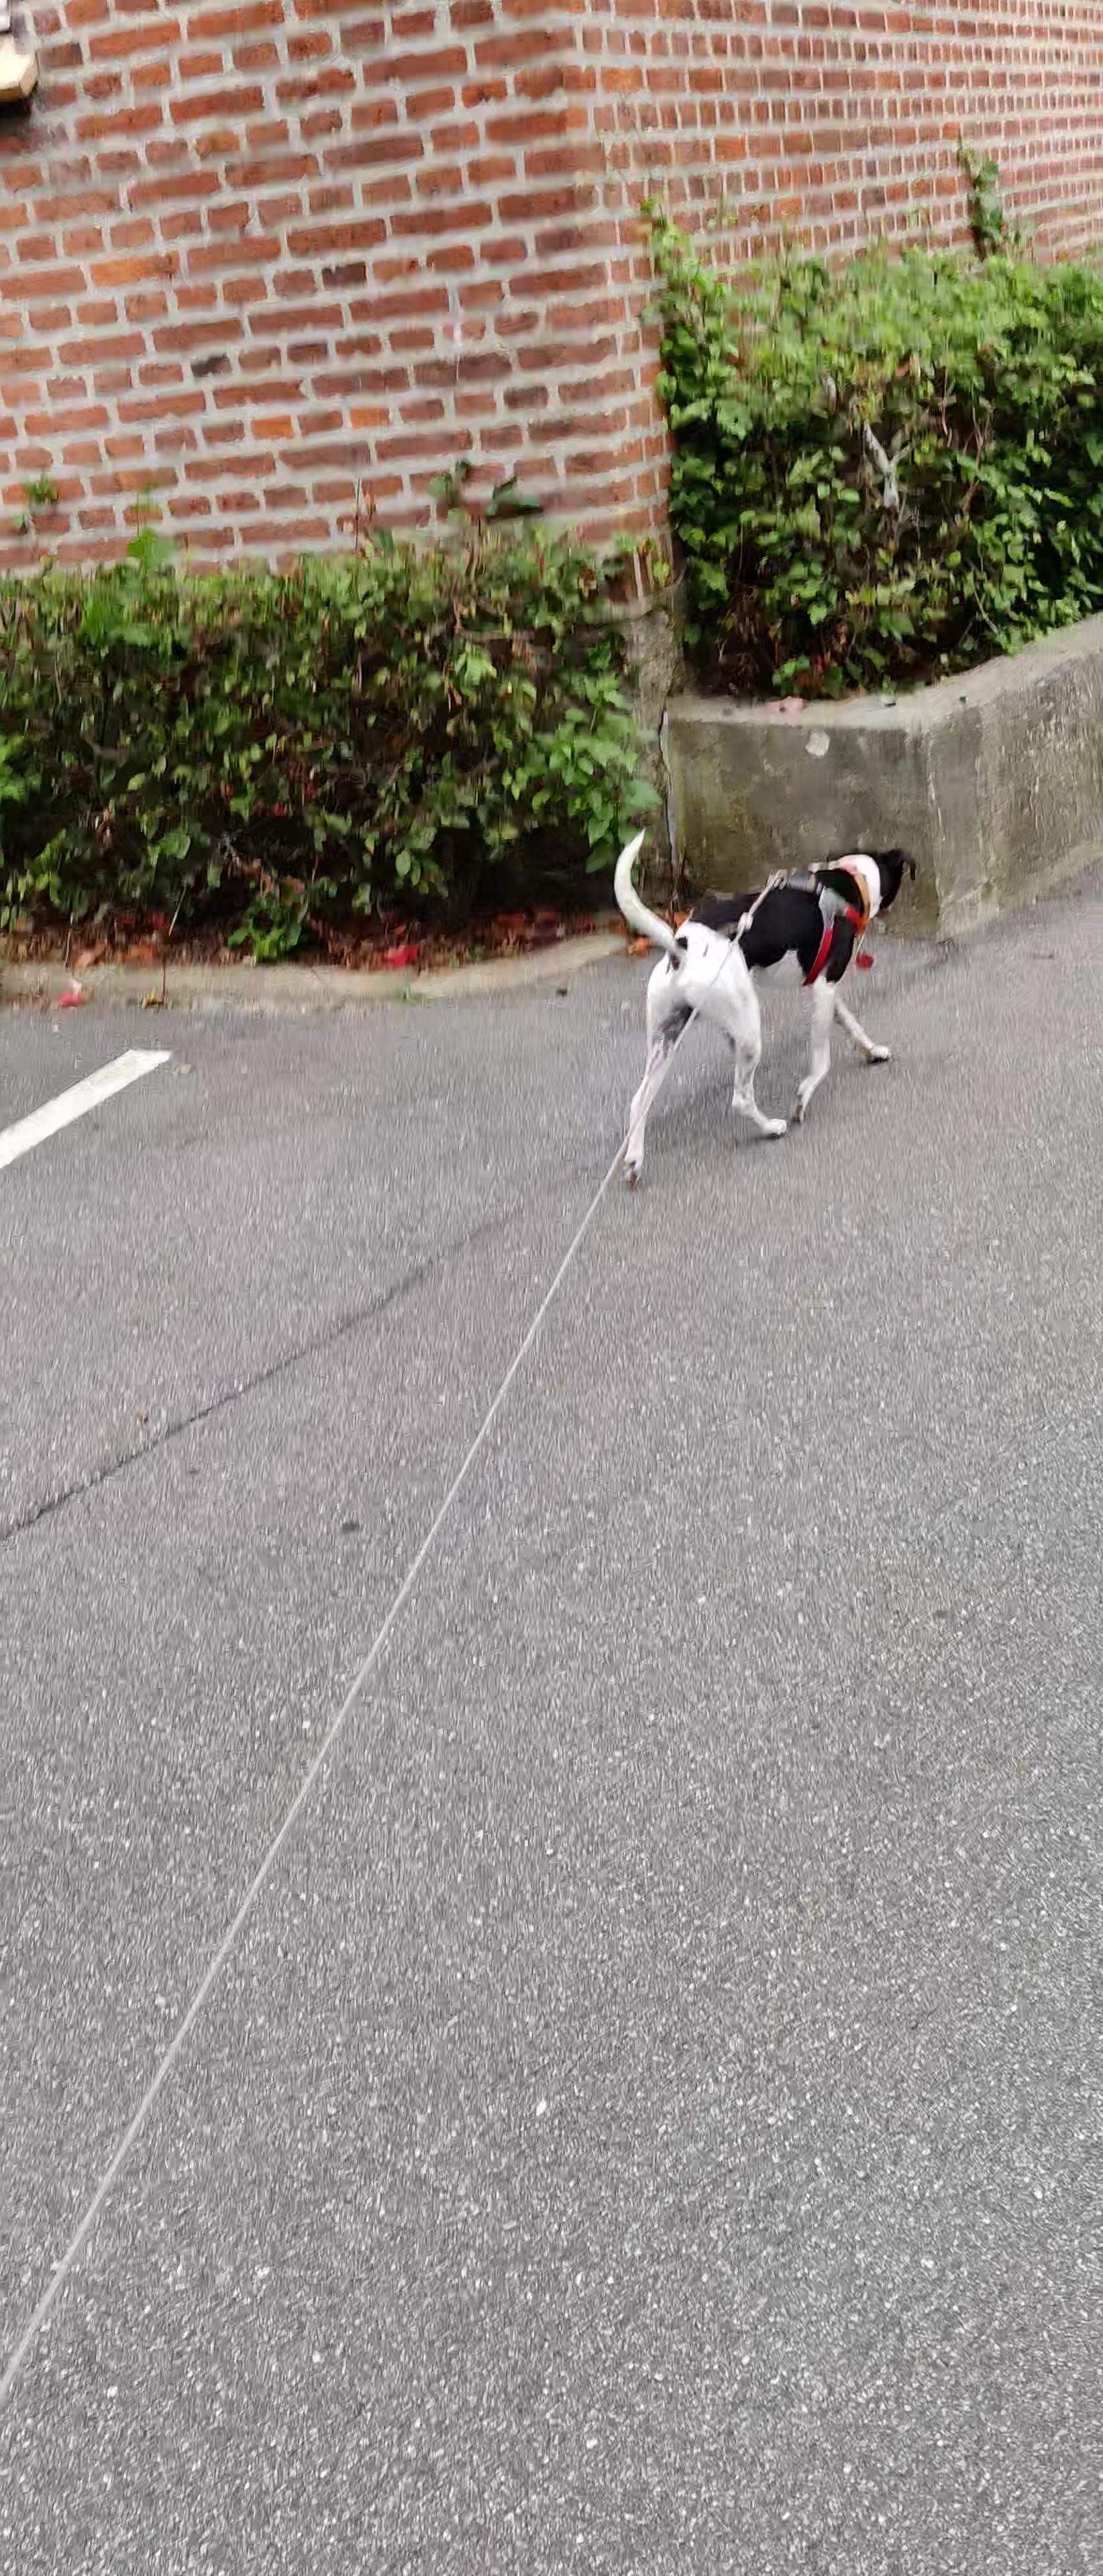Dog: (608, 826, 919, 1191)
